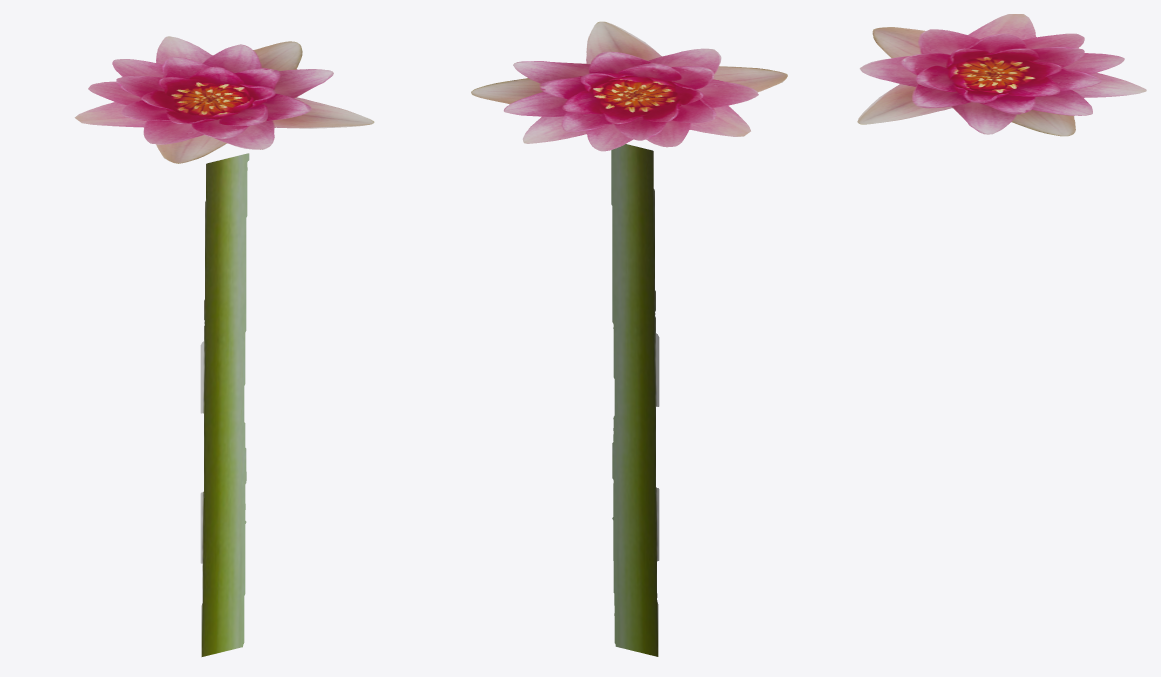
Rendered from Flower_06.FBX.
3 renders of one model, left to right at view 1: azimuth 30°, elevation 25°; view 2: azimuth 150°, elevation 25°; view 3: azimuth 270°, elevation 25°, orthographic. The views are drawn at different scales.
Visible parts, largest first — view 1: Plane003; view 2: Plane003; view 3: Plane003.
Boxes of the visible parts, x1,y1,x2,y2 form: Plane003: (74,36,374,656); Plane003: (471,21,787,656); Plane003: (857,14,1146,136).
Size of the model in its own units: 14 by 14 by 29.93.
